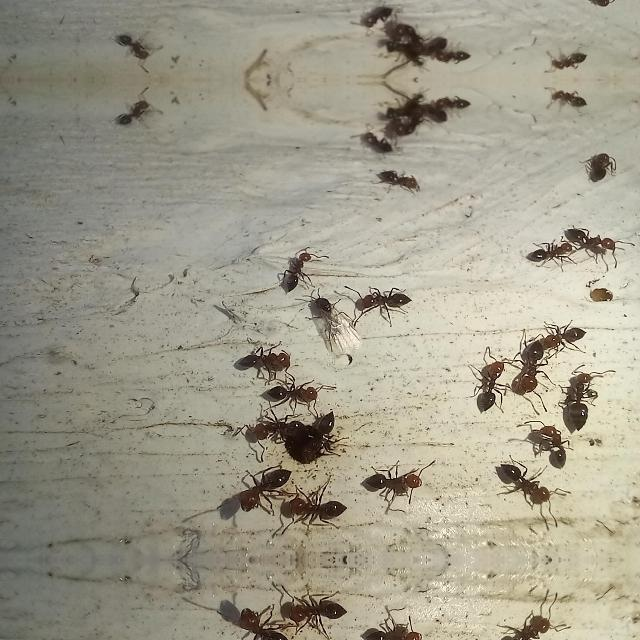Crematogaster: (308, 290, 368, 360), (272, 480, 348, 524), (272, 596, 348, 640), (231, 462, 291, 512), (562, 361, 598, 431), (466, 352, 506, 412), (359, 462, 425, 498), (532, 419, 572, 477), (492, 462, 548, 502), (567, 222, 623, 260), (359, 283, 413, 321), (243, 412, 303, 446), (231, 607, 291, 640), (538, 322, 588, 360), (311, 405, 345, 459), (514, 336, 544, 396), (238, 344, 290, 378), (256, 379, 320, 406), (283, 242, 317, 290), (492, 617, 547, 640), (359, 621, 425, 640), (382, 168, 426, 196), (532, 238, 574, 266), (542, 86, 588, 108), (542, 52, 588, 74), (589, 146, 615, 178), (360, 130, 394, 154), (360, 6, 394, 30), (121, 101, 151, 125), (121, 35, 151, 59), (439, 92, 471, 108), (439, 52, 471, 68), (589, 0, 615, 14)
